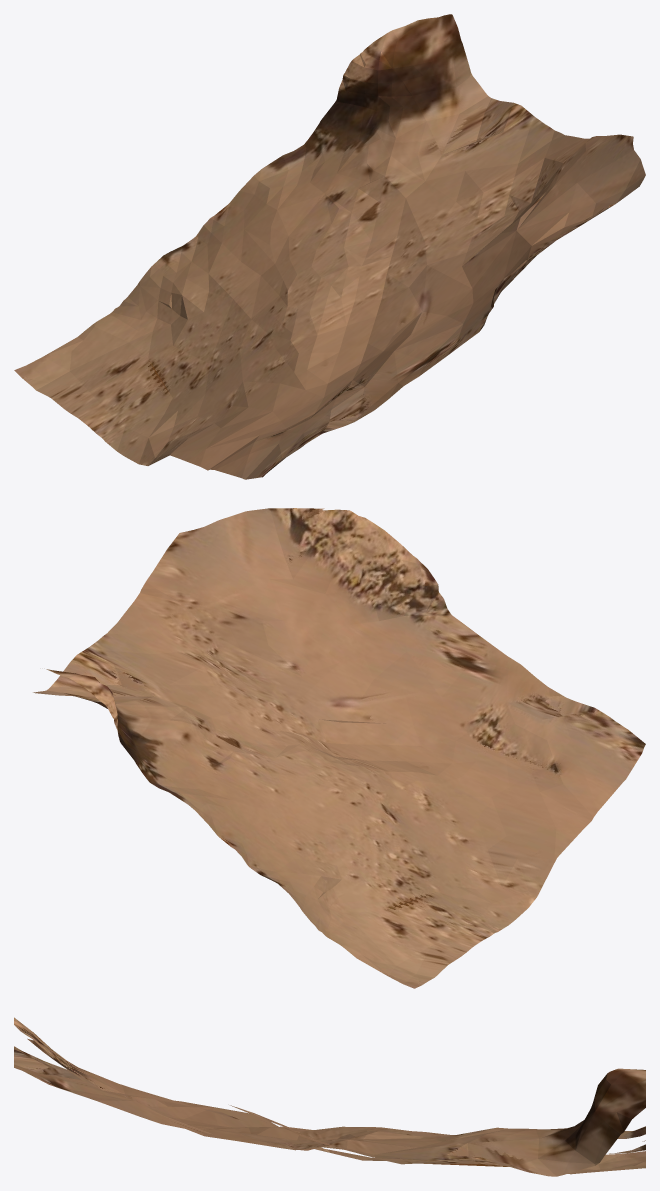
3 renders of one model, top to bottom at view 1: azimuth 30°, elevation 25°; view 2: azimuth 150°, elevation 25°; view 3: azimuth 270°, elevation 25°, orthographic. The views are drawn at different scales.
Size of the model in its own units: 1.04 by 0.6036 by 1.04.
Materials: 3 (3 with a texture image).
